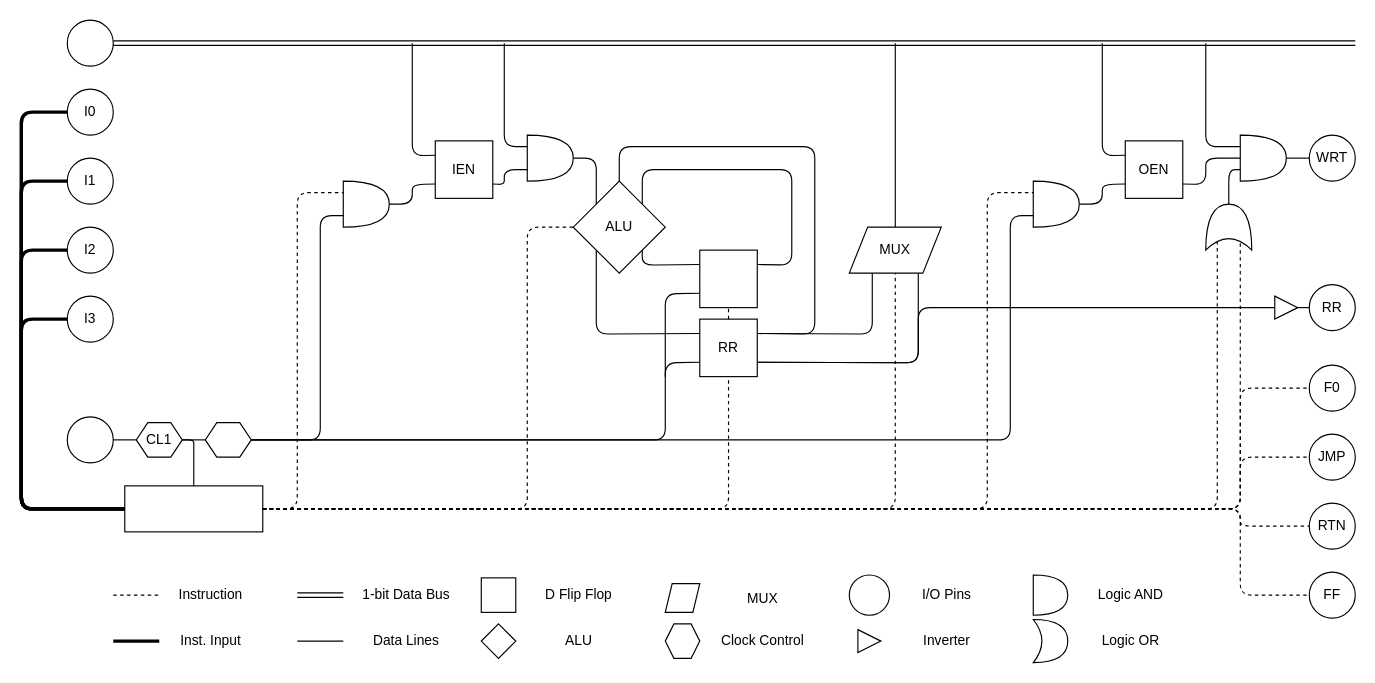
This 1375x683 diagram has some shape labels left out. The shapes that lost their labels are listed below. From the top down, each one's centre as x and y in pixels, then its label:
At (x=89, y=42): "DAT".
At (x=728, y=278): "CARRY".
At (x=89, y=439): "CLK".
At (x=227, y=439): "CL2".
At (x=193, y=508): "INST.".
